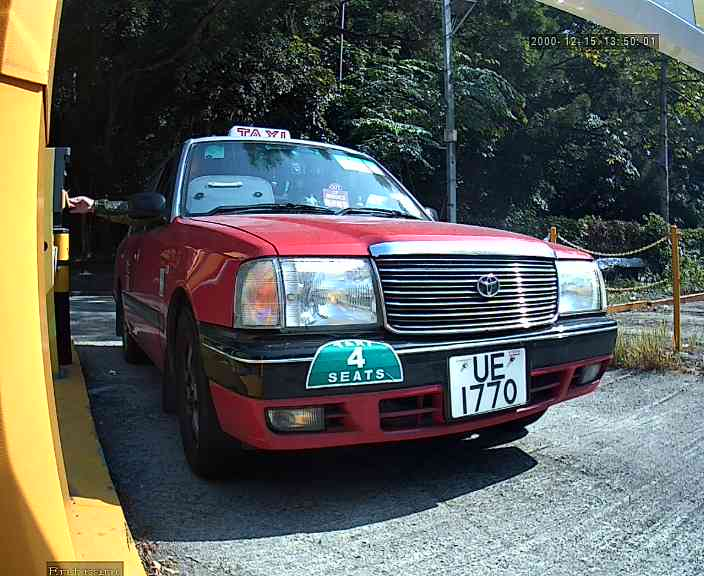bottom_left_lp: (450, 413, 458, 419)
bottom_left_radiator: (383, 322, 394, 335)
bottom_left_windshield: (174, 208, 191, 220)
bottom_right_lp: (521, 397, 530, 406)
bottom_right_radiator: (550, 309, 561, 325)
bottom_right_windshield: (417, 213, 435, 224)
brand: (474, 272, 501, 300)
left_headlight: (239, 252, 382, 330)
right_headlight: (549, 252, 612, 317)
top_left_lp: (444, 352, 457, 362)
top_left_radiator: (369, 250, 379, 264)
top_left_windshield: (188, 140, 198, 152)
top_right_lp: (519, 344, 530, 355)
top_right_radiator: (548, 250, 559, 269)
top_right_windshield: (365, 153, 377, 165)
